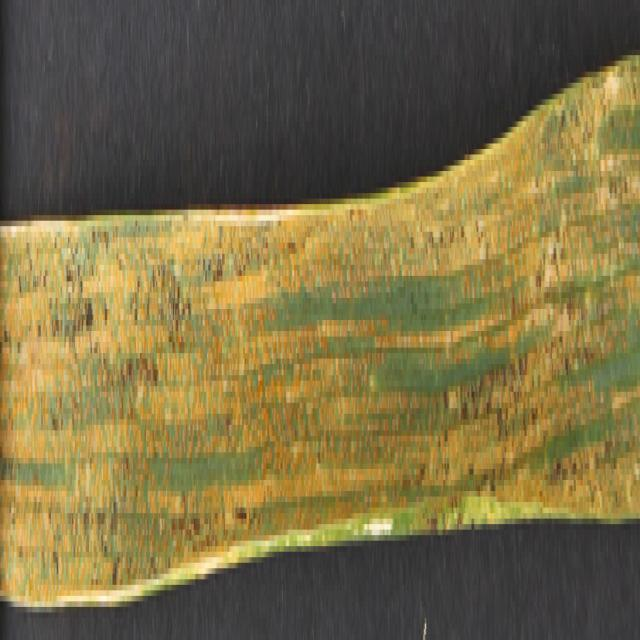leaf rust: (1, 60, 640, 640)
